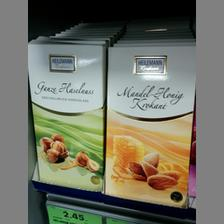Schokolade: (102, 43, 194, 206), (28, 39, 104, 189)
